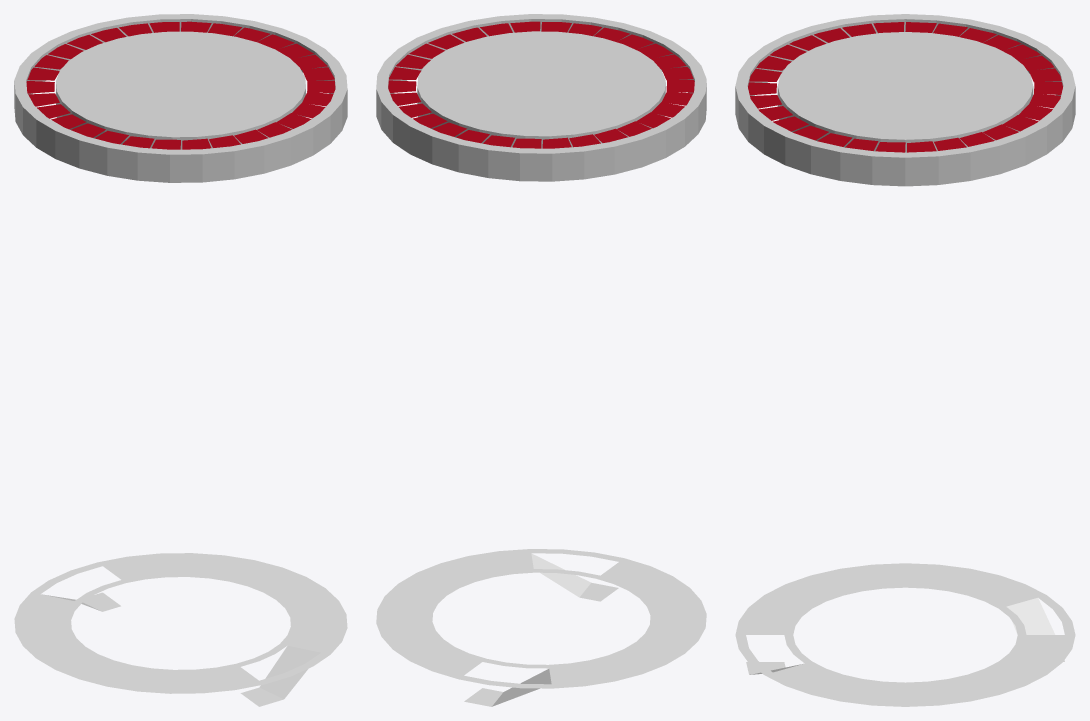
File: Rotor.glb
3 renders of one model, left to right at view 1: azimuth 30°, elevation 25°; view 2: azimuth 150°, elevation 25°; view 3: azimuth 270°, elevation 25°, orthographic. The views are drawn at different scales.
Parts seen in each view (by area): view 1: Цилиндр, Окружность; view 2: Цилиндр, Окружность; view 3: Цилиндр, Окружность.
Boxes of the visible parts, x1=… form: Цилиндр: x1=14, y1=14, x2=347, y2=182; Окружность: x1=14, y1=553, x2=347, y2=706; Цилиндр: x1=376, y1=14, x2=706, y2=181; Окружность: x1=376, y1=549, x2=706, y2=706; Цилиндр: x1=735, y1=14, x2=1075, y2=186; Окружность: x1=735, y1=563, x2=1075, y2=706.
Bounding box in the file's own units: 2 × 3.74 × 2.
